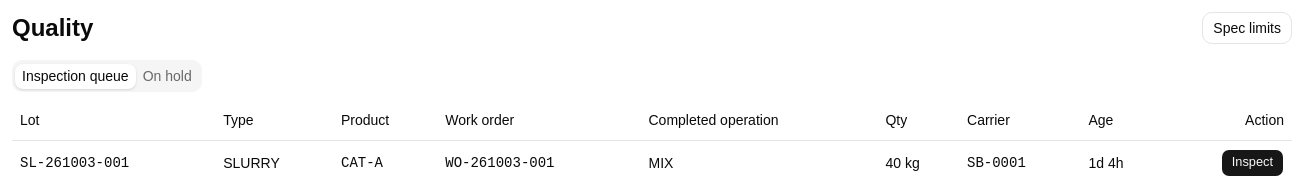
QualityPage › on hold tab lists held lots
Expected: the link "SL-261003-001" is shown, [20,154,129,170]
Step 1. Click the tab "On hold" → click(167, 76), box [136,64,199,88]
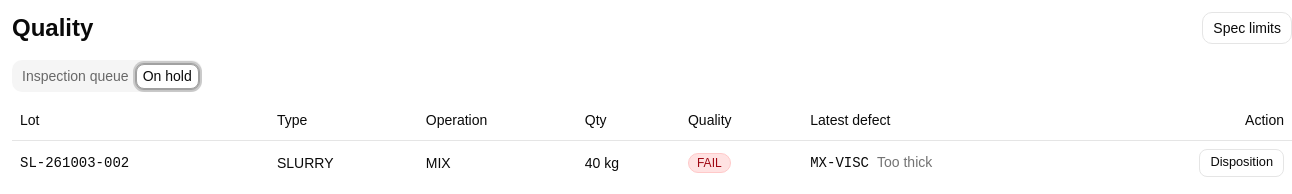
Now the link "SL-261003-002" is shown, box [20,154,129,170]
Now the text "MX-VISC" is shown, box [810,155,869,171]
Now the button "Disposition" is shown, box [1199,148,1284,176]
